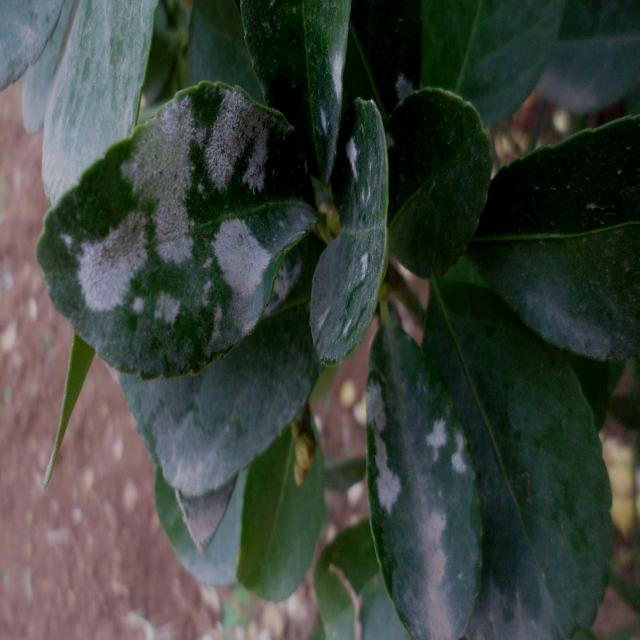Black_knot: (35, 78, 319, 382)
